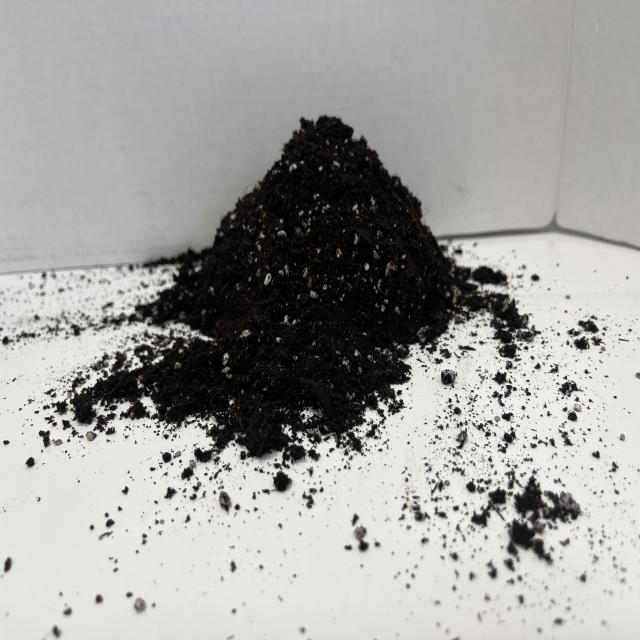soil: (68, 112, 459, 460)
